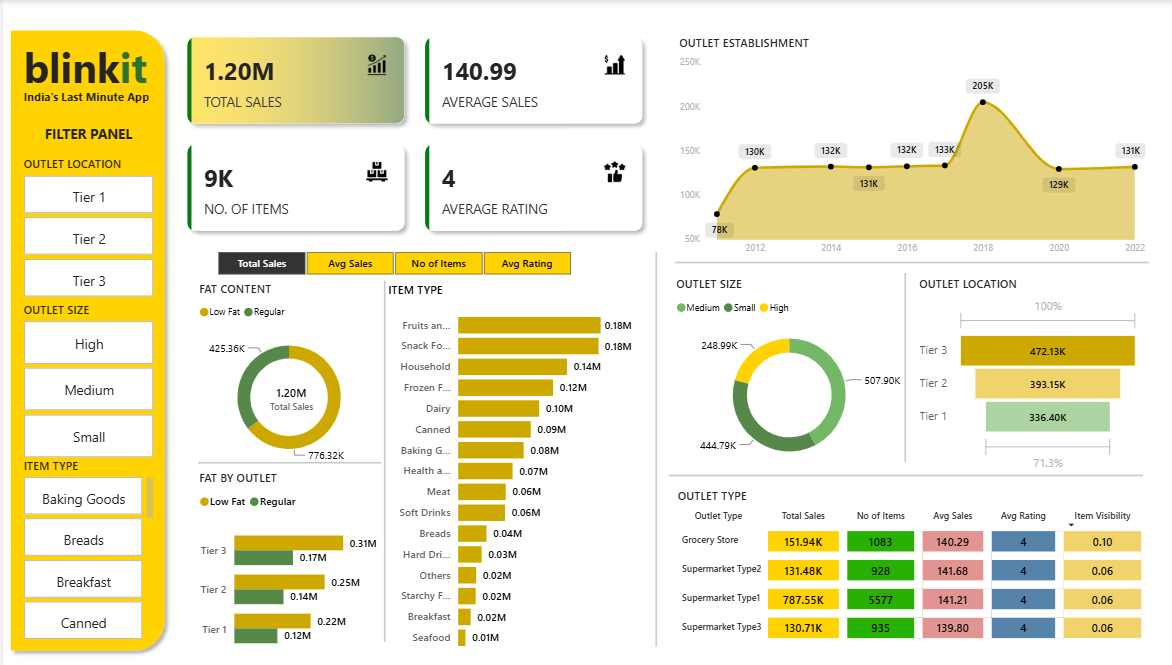

What the dashboard file says about the page in this screenshot:
{"tool":"powerbi","page":{"name":"Page 1","canvas":[1383,800],"ordinal":0},"visuals":[{"type":"shape","box":[0,26.5,199.6,748.8],"z":0},{"type":"textbox","box":[19.4,40.6,180.1,93.6],"z":1000},{"type":"textbox","box":[19.4,98.9,199.6,35.3],"z":2000},{"type":"cardVisual","fields":{"Data":["BlinkIT Grocery Data.Total Sales","BlinkIT Grocery Data.Avg Sales","BlinkIT Grocery Data.No of Items","BlinkIT Grocery Data.Avg Rating"]},"box":[199.6,26.5,570.4,263.1],"z":3000},{"type":"donutChart","title":"FAT CONTENT","fields":{"Y":["BlinkIT Grocery Data.Total Sales"],"Category":["BlinkIT Grocery Data.Item Fat Content"]},"box":[226,330.2,220.8,229.6],"z":4000},{"type":"slicer","fields":{"Values":["Metrics.Metrics"]},"box":[227.8,289.6,464.5,40.6],"z":5000},{"type":"cardVisual","fields":{"Data":["BlinkIT Grocery Data.Total Sales"]},"box":[287.9,423.8,104.2,91.8],"z":6000},{"type":"clusteredBarChart","title":"FAT BY OUTLET","fields":{"Y":["BlinkIT Grocery Data.Total Sales"],"Category":["BlinkIT Grocery Data.Outlet Location Type"],"Series":["BlinkIT Grocery Data.Item Fat Content"]},"box":[226,552.8,219,229.6],"z":7000},{"type":"shape","box":[229.6,522.7,215.5,44.2],"z":8000},{"type":"shape","box":[340.8,330.2,217.2,425.6],"z":9000},{"type":"clusteredBarChart","title":"ITEM TYPE","fields":{"Y":["BlinkIT Grocery Data.Total Sales"],"Category":["BlinkIT Grocery Data.Item Type"]},"box":[448.6,332,296.7,443.3],"z":10000},{"type":"areaChart","title":"OUTLET ESTABLISHMENT","fields":{"Category":["BlinkIT Grocery Data.Outlet Establishment Year"],"Y":["BlinkIT Grocery Data.Total Sales"]},"box":[791.2,40.6,558.1,268.4],"z":11000},{"type":"shape","box":[791.2,287.9,558.1,42.4],"z":12000},{"type":"donutChart","title":"OUTLET SIZE","fields":{"Y":["BlinkIT Grocery Data.Total Sales"],"Category":["BlinkIT Grocery Data.Outlet Size"]},"box":[787.6,324.9,275.5,234.9],"z":13000},{"type":"shape","box":[953.6,321.4,217.2,222.5],"z":14000},{"type":"funnel","title":"OUTLET LOCATION","fields":{"Y":["Sum(BlinkIT Grocery Data.Sales)"],"Category":["BlinkIT Grocery Data.Outlet Location Type"]},"box":[1073.7,324.9,268.4,234.9],"z":15000},{"type":"shape","box":[784.1,538.6,558.1,42.4],"z":16000},{"type":"pivotTable","title":"OUTLET TYPE","fields":{"Rows":["BlinkIT Grocery Data.Outlet Type"],"Values":["BlinkIT Grocery Data.Total Sales","BlinkIT Grocery Data.No of Items","BlinkIT Grocery Data.Avg Sales","BlinkIT Grocery Data.Avg Rating","Avg(BlinkIT Grocery Data.Item Visibility)"]},"box":[789.4,574,582.8,187.2],"z":17000},{"type":"advancedSlicerVisual","title":"OUTLET LOCATION","fields":{"Values":["BlinkIT Grocery Data.Outlet Location Type"]},"box":[19.4,183.7,162.5,171.3],"z":19000},{"type":"advancedSlicerVisual","title":"OUTLET SIZE","fields":{"Values":["BlinkIT Grocery Data.Outlet Size"]},"box":[19.4,355,162.5,189],"z":20000},{"type":"advancedSlicerVisual","title":"ITEM TYPE","fields":{"Values":["BlinkIT Grocery Data.Item Type"]},"box":[19.4,538.6,162.5,222.5],"z":21000},{"type":"shape","box":[660.5,296.7,217.2,464.5],"z":22000},{"type":"textbox","box":[19.4,141.3,162.5,33.6],"z":23000}]}

Visuals, with their boxes in screenshot pixels (x1, y1, x2, y2), scaled from the page's 1383x800 canvas onto the 1172x665 screenshot:
shape: [0, 22, 169, 644]
textbox: [16, 34, 169, 112]
textbox: [16, 82, 186, 112]
cardVisual - BlinkIT Grocery Data.Total Sales x BlinkIT Grocery Data.Avg Sales: [169, 22, 653, 241]
"FAT CONTENT" donutChart: [192, 274, 379, 465]
slicer - Metrics.Metrics: [193, 241, 587, 274]
cardVisual - BlinkIT Grocery Data.Total Sales: [244, 352, 332, 429]
"FAT BY OUTLET" clusteredBarChart: [192, 460, 377, 650]
shape: [195, 434, 377, 471]
shape: [289, 274, 473, 628]
"ITEM TYPE" clusteredBarChart: [380, 276, 632, 644]
"OUTLET ESTABLISHMENT" areaChart: [670, 34, 1143, 257]
shape: [670, 239, 1143, 275]
"OUTLET SIZE" donutChart: [667, 270, 901, 465]
shape: [808, 267, 992, 452]
"OUTLET LOCATION" funnel: [910, 270, 1137, 465]
shape: [664, 448, 1137, 483]
"OUTLET TYPE" pivotTable: [669, 477, 1163, 633]
"OUTLET LOCATION" advancedSlicerVisual: [16, 153, 154, 295]
"OUTLET SIZE" advancedSlicerVisual: [16, 295, 154, 452]
"ITEM TYPE" advancedSlicerVisual: [16, 448, 154, 633]
shape: [560, 247, 744, 633]
textbox: [16, 117, 154, 145]
